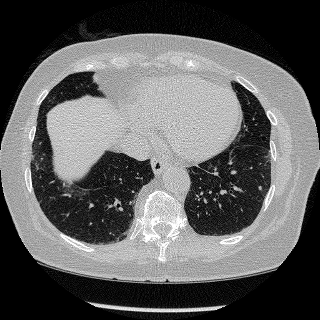nodule: (258, 186, 262, 190)
